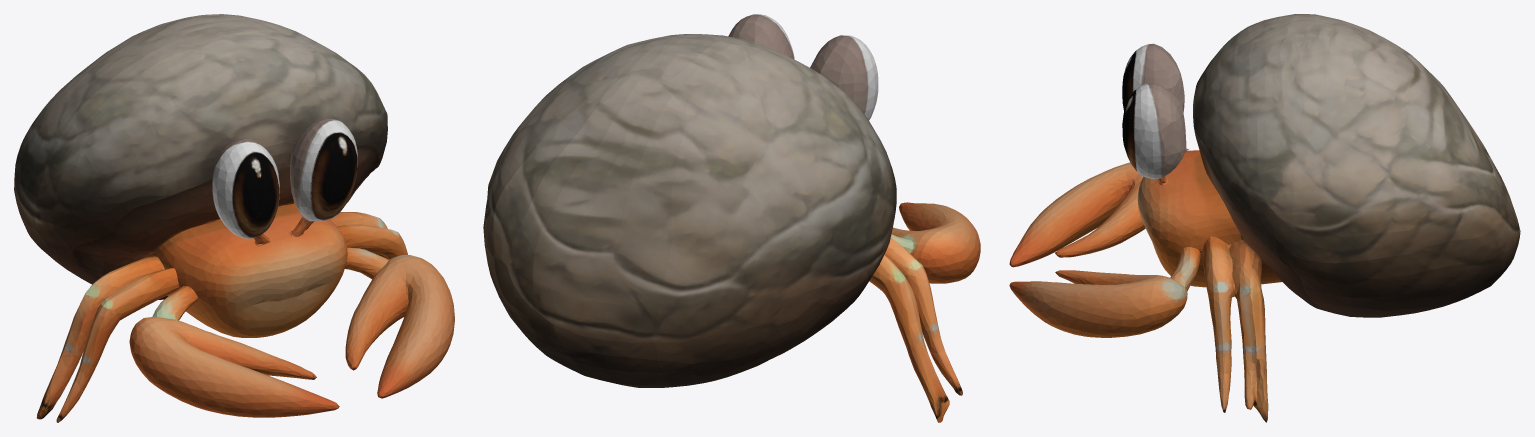
File: edit.glb
The picture shows the model from 3 angles, left to right: view 1: azimuth 30°, elevation 25°; view 2: azimuth 150°, elevation 25°; view 3: azimuth 270°, elevation 25°; orthographic projection. The views are drawn at different scales.
Visible parts, largest first — view 1: world; view 2: world; view 3: world.
Part boxes in pixels (box(x1,y1,x2,y2)): world: box(14, 14, 454, 422); world: box(483, 14, 980, 422); world: box(1009, 14, 1520, 422).
Size of the model in its own units: 0.7372 by 0.5965 by 0.8935.
Materials: 1 (1 with a texture image).
